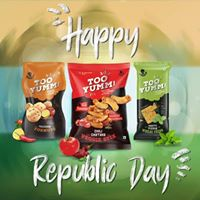plastic: (69, 65, 129, 148), (21, 63, 65, 135), (134, 62, 169, 137)
tooyumm: (83, 74, 117, 93), (137, 77, 166, 91), (32, 80, 57, 93)
wrapper: (68, 62, 134, 152), (133, 62, 173, 142), (24, 65, 65, 136)
